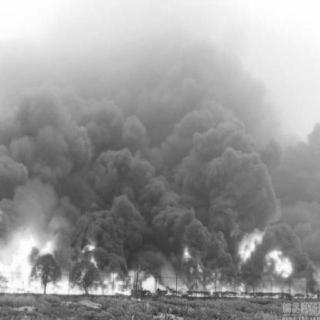Fire: (184, 239, 304, 295)
